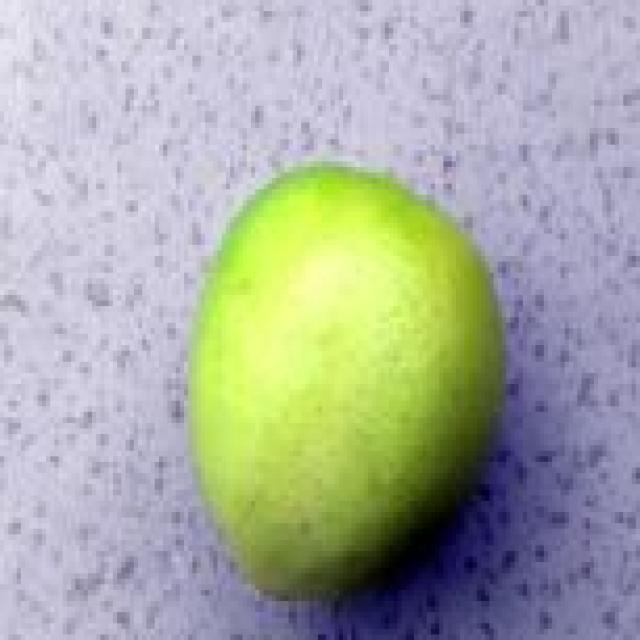Good_Lime-10-21-days: (184, 161, 506, 607)
